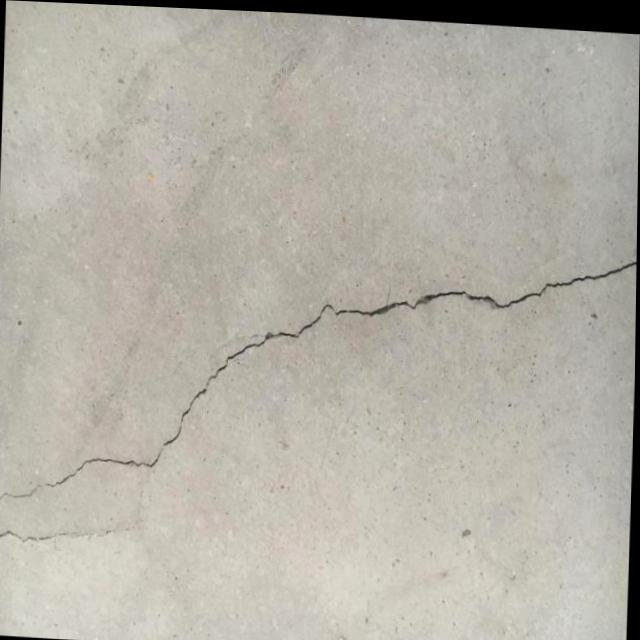Crack: (169, 224, 623, 477), (0, 423, 170, 582)
